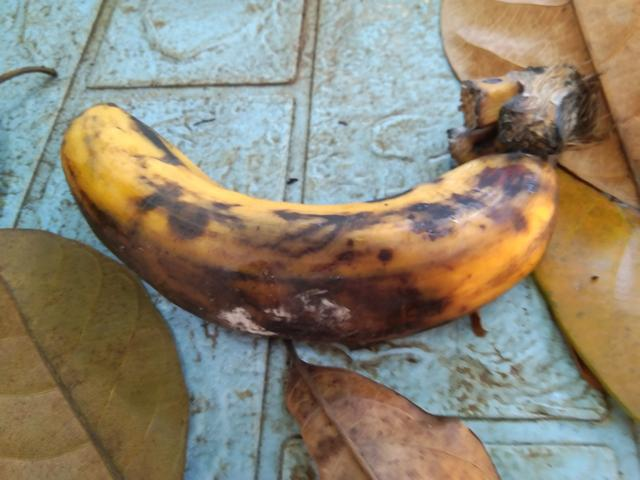rotten: (58, 80, 585, 385)
